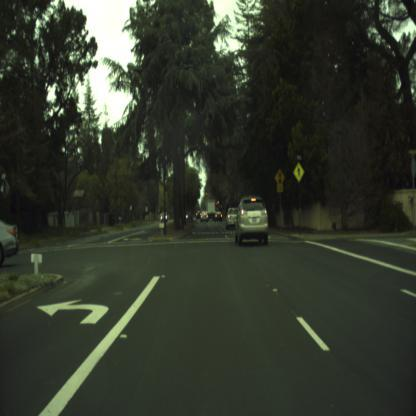Red: (206, 191, 208, 196), (218, 198, 219, 204), (216, 201, 217, 206)
